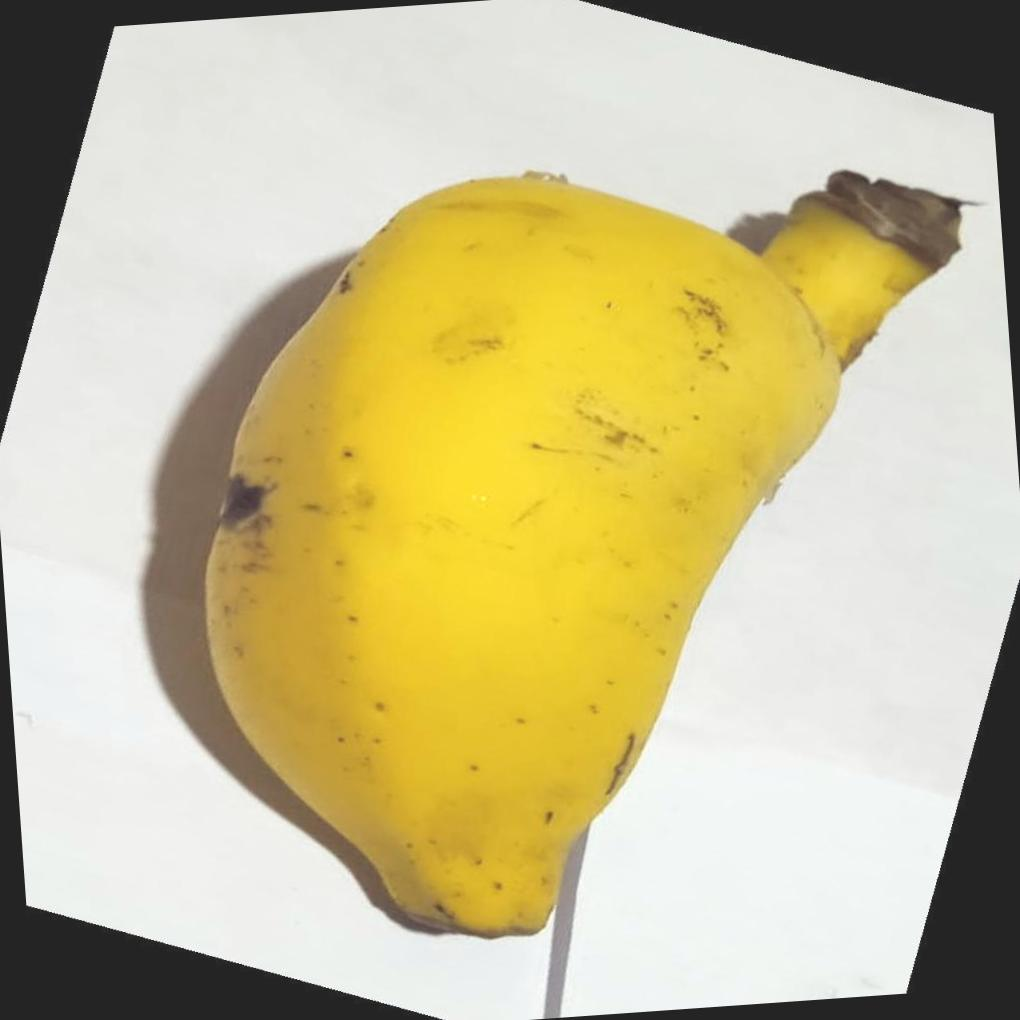Banana Ripe: (126, 71, 1020, 966)
